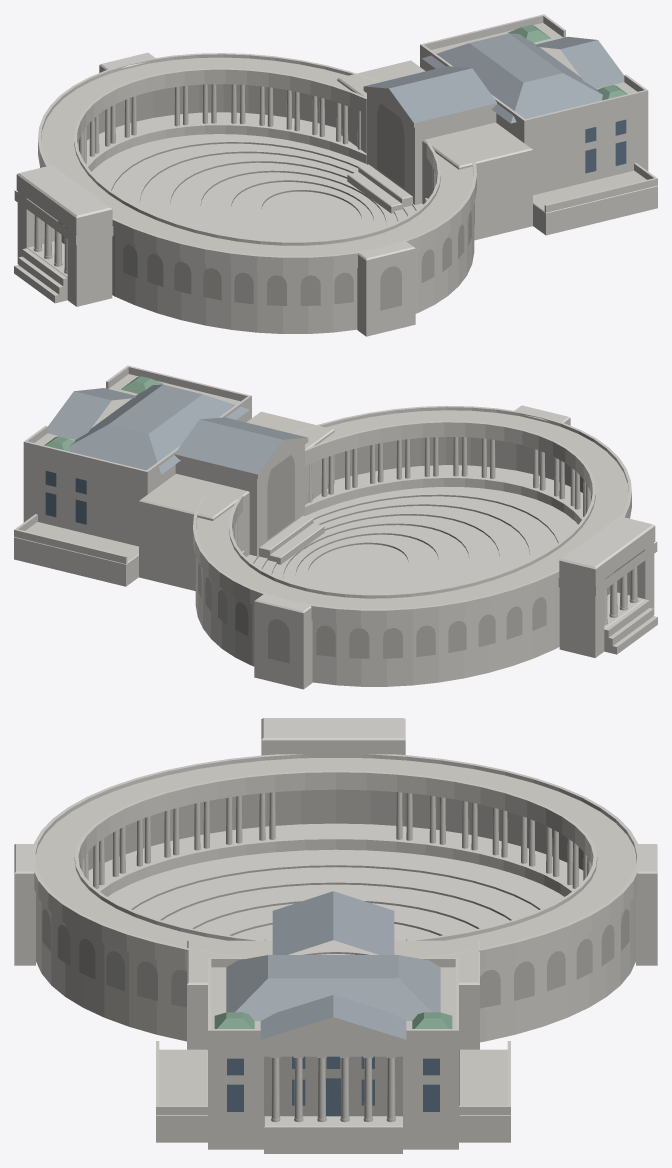
File: dc-memorial-amphitheater.glb
3 views of the same model, one above another, from view 1: azimuth 30°, elevation 25°; view 2: azimuth 150°, elevation 25°; view 3: azimuth 270°, elevation 25° (orthographic). The views are drawn at different scales.
Parts seen in each view (by area): view 1: Memorial Amphitheater; view 2: Memorial Amphitheater; view 3: Memorial Amphitheater.
Part boxes in pixels (x1,y1,x2,y2): Memorial Amphitheater: (14, 14, 657, 336); Memorial Amphitheater: (14, 365, 657, 689); Memorial Amphitheater: (14, 718, 657, 1153).
Bounding box in the file's own units: 94.5 × 18 × 76.88.
